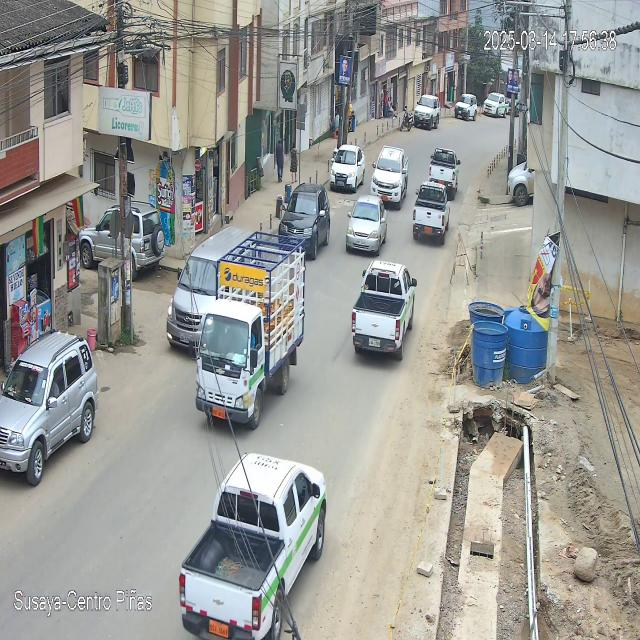CMT: (179, 453, 327, 639), (352, 262, 416, 362)
TRUCK: (196, 248, 306, 430)
